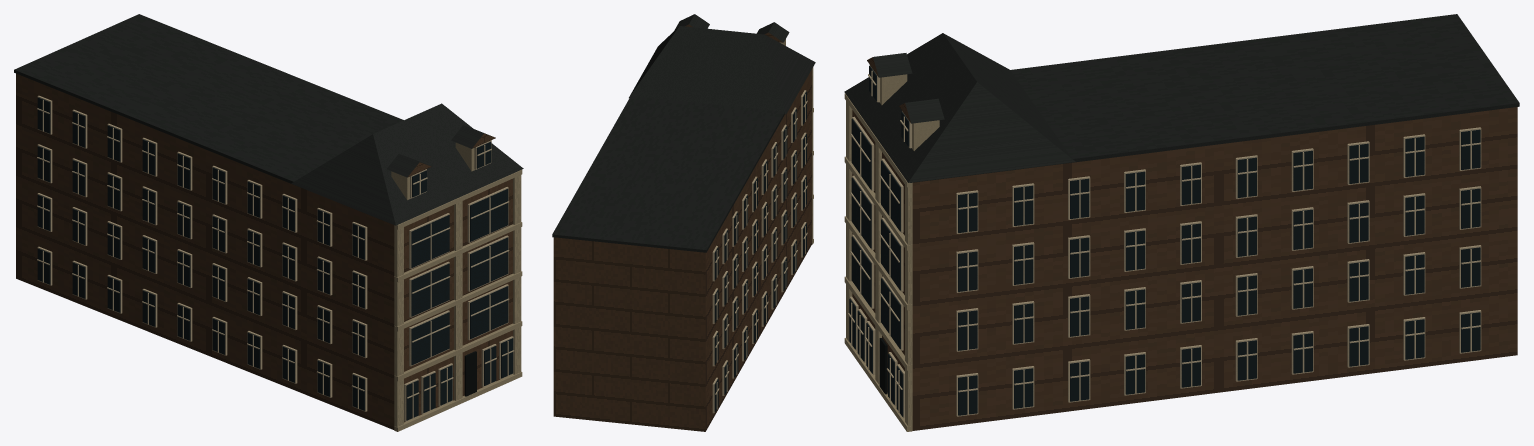
3 renders of one model, left to right at view 1: azimuth 30°, elevation 25°; view 2: azimuth 150°, elevation 25°; view 3: azimuth 270°, elevation 25°, orthographic. The views are drawn at different scales.
Parts seen in each view (by area): view 1: nijgh-van-ditmar-0, nijgh-van-ditmar-1, nijgh-van-ditmar-4, nijgh-van-ditmar-3, nijgh-van-ditmar-2, nijgh-van-ditmar-5; view 2: nijgh-van-ditmar-0, nijgh-van-ditmar-1, nijgh-van-ditmar-3, nijgh-van-ditmar-4, nijgh-van-ditmar-2; view 3: nijgh-van-ditmar-0, nijgh-van-ditmar-1, nijgh-van-ditmar-4, nijgh-van-ditmar-3, nijgh-van-ditmar-2.
Boxes of the visible parts, box(x1,y1,x2,y2) form: nijgh-van-ditmar-0: box(16, 73, 512, 429); nijgh-van-ditmar-1: box(14, 14, 523, 225); nijgh-van-ditmar-4: box(37, 97, 513, 420); nijgh-van-ditmar-3: box(37, 95, 514, 421); nijgh-van-ditmar-2: box(391, 140, 522, 431); nijgh-van-ditmar-5: box(464, 351, 476, 396); nijgh-van-ditmar-0: box(553, 24, 811, 431); nijgh-van-ditmar-1: box(552, 14, 815, 252); nijgh-van-ditmar-3: box(712, 90, 807, 413); nijgh-van-ditmar-4: box(714, 91, 806, 411); nijgh-van-ditmar-2: box(779, 39, 813, 244); nijgh-van-ditmar-0: box(852, 57, 1517, 430); nijgh-van-ditmar-1: box(844, 14, 1519, 182); nijgh-van-ditmar-4: box(849, 66, 1480, 416); nijgh-van-ditmar-3: box(848, 65, 1481, 418); nijgh-van-ditmar-2: box(844, 74, 939, 431).
Bounding box in the file's own units: 23.7 × 21.2 × 40.56.
Materials: 6 (6 with a texture image).
